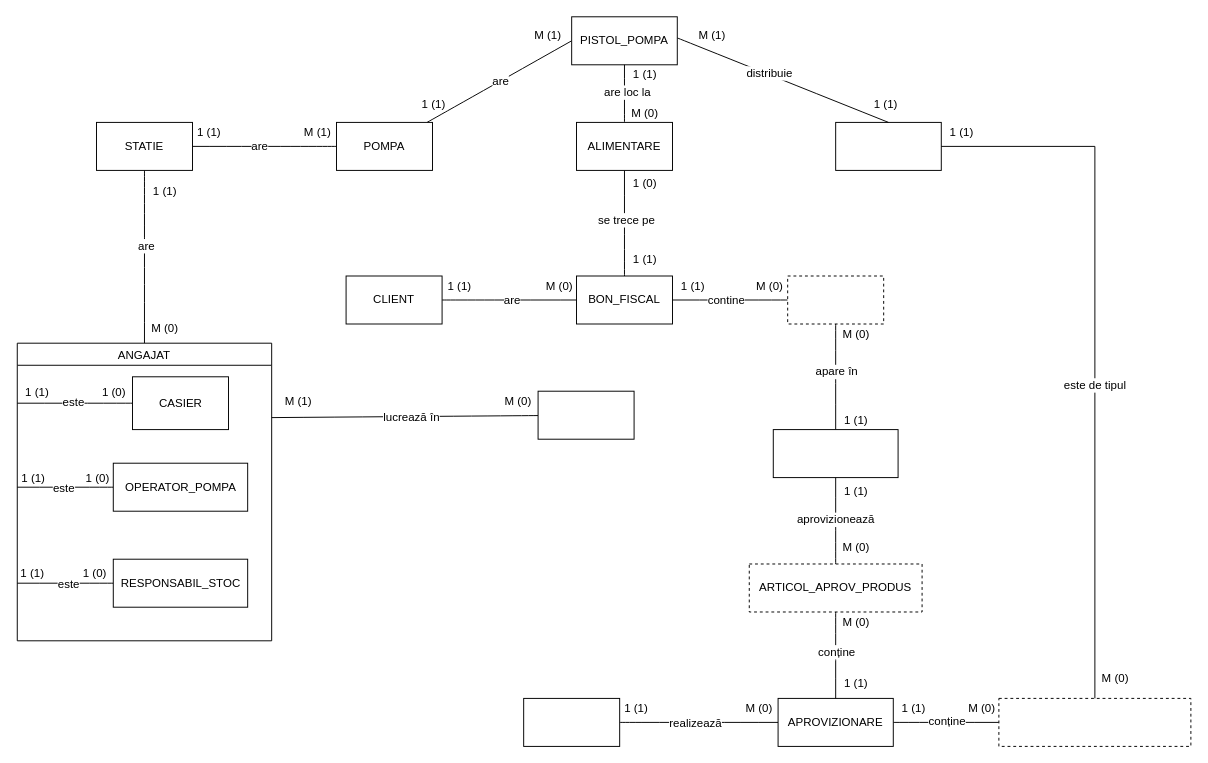
Some shapes in this 1208 by 763 pixel diagram are drawn without their labels. Here are the shapes that lost their labels. From the top down, the centre of each, then its label:
At point (888, 145): "TIP_CARBURANT".
At point (835, 299): "ARTICOL_BON".
At point (585, 414): "TURA".
At point (835, 453): "PRODUS_MAGAZIN".
At point (571, 721): "FURNIZOR".
At point (1094, 721): "ARTICOL_APROV_CARBURANT".
